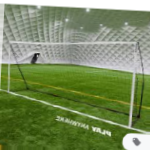goals: (6, 38, 143, 131)
